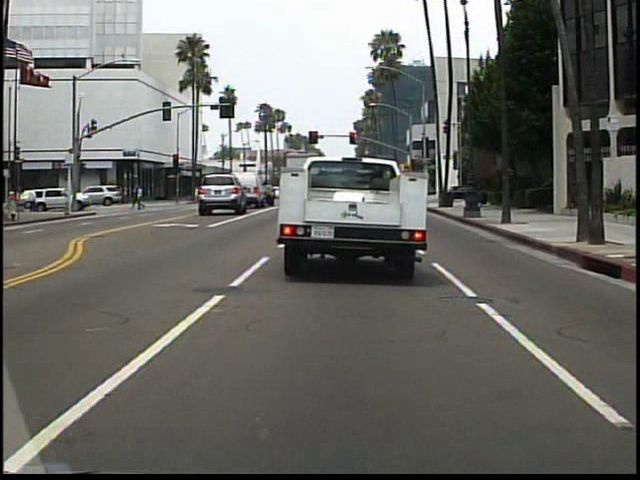person: (28, 185, 40, 214)
